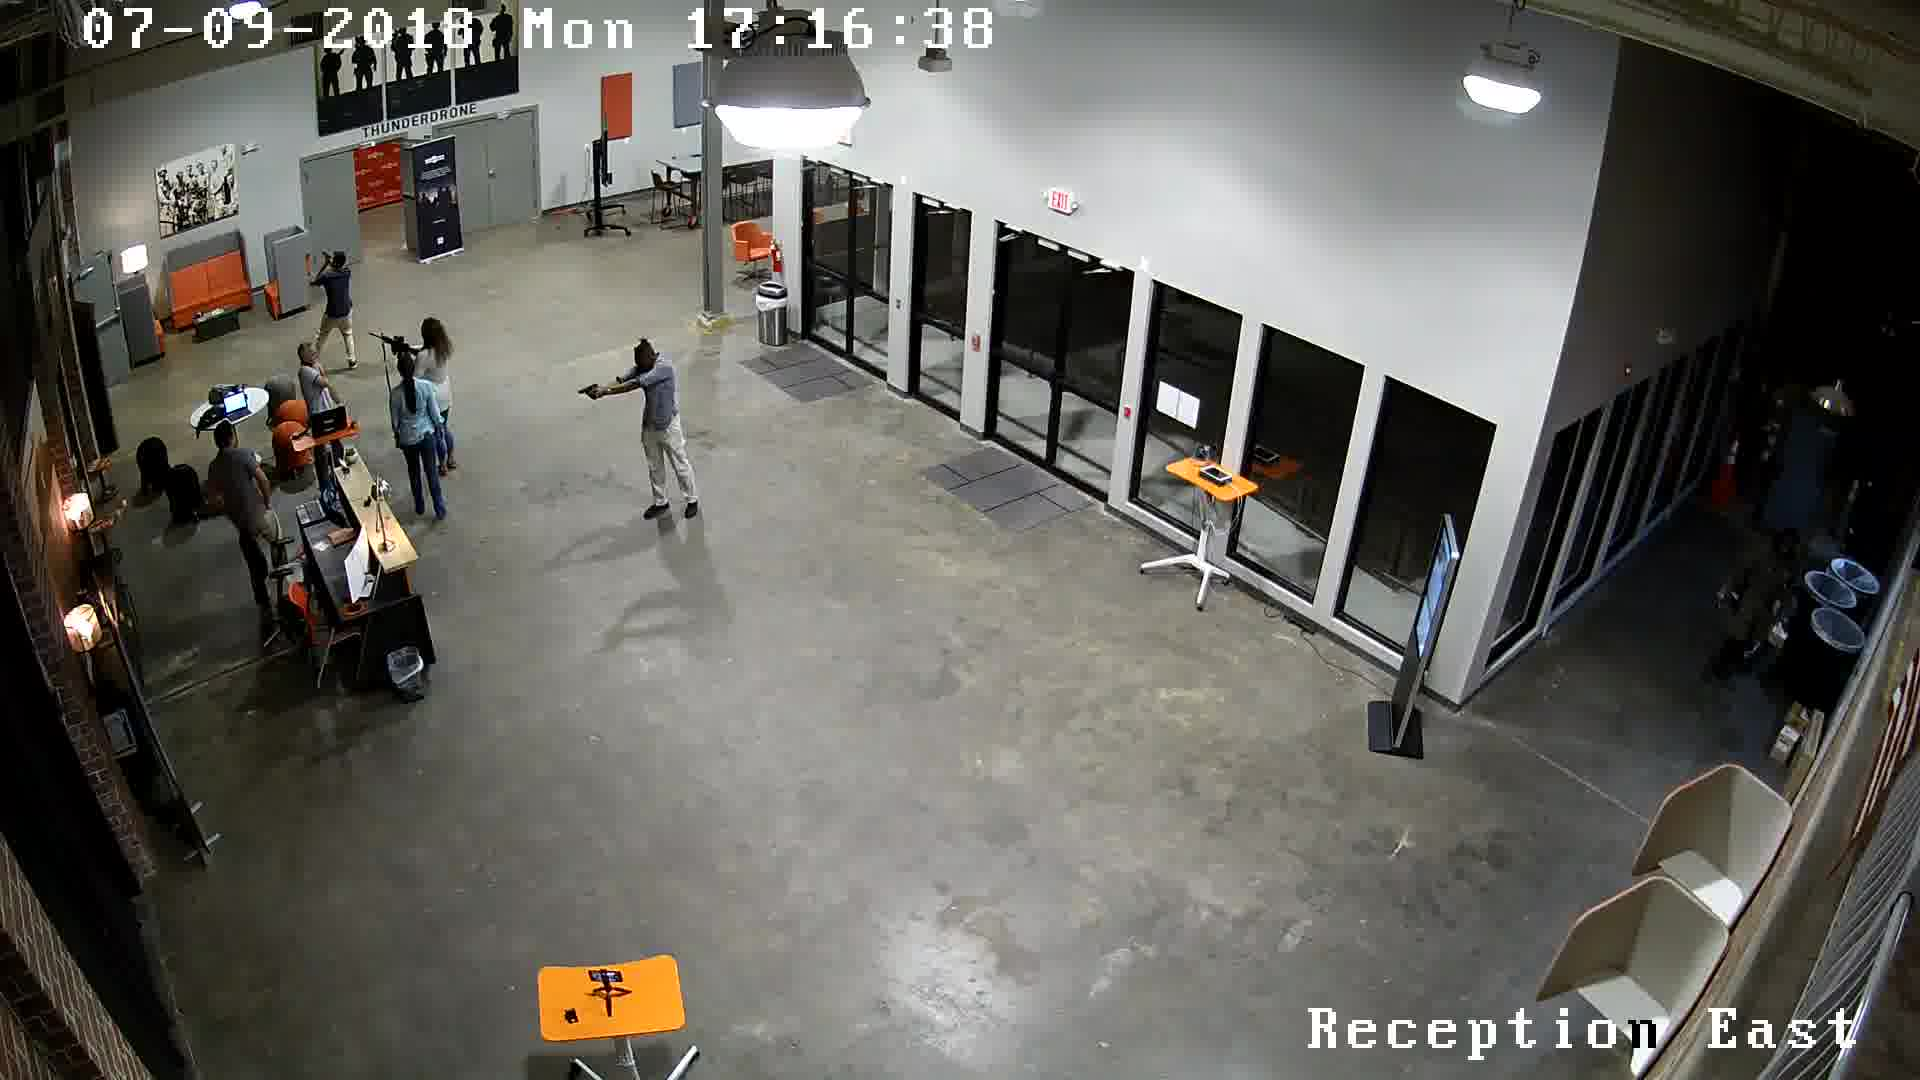pistol: (566, 382, 615, 415)
